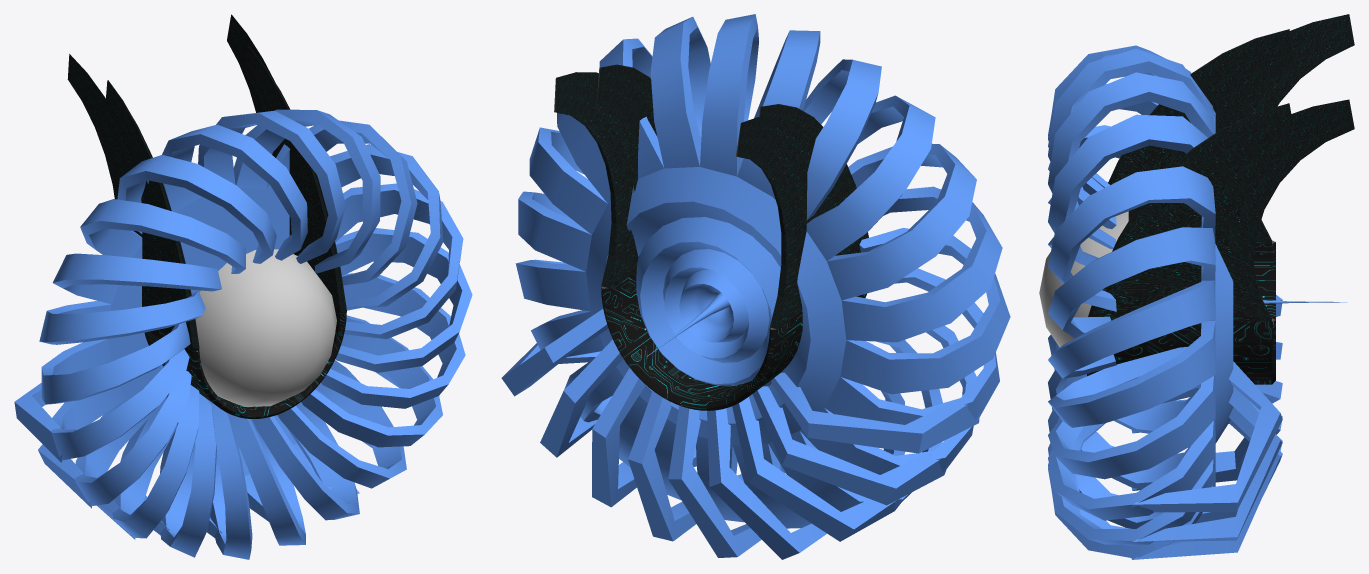
The model's file is space time ship.fbx.
3 views of the same model, side by side, from view 1: azimuth 30°, elevation 25°; view 2: azimuth 150°, elevation 25°; view 3: azimuth 270°, elevation 25° (orthographic). The views are drawn at different scales.
Visible parts, largest first — view 1: Estrusione_NURBS_1, Sfera, Tubo; view 2: Estrusione_NURBS_1, Tubo; view 3: Estrusione_NURBS_1, Tubo, Sfera.
Part boxes in pixels (x1=…): Estrusione_NURBS_1: x1=14, y1=109, x2=472, y2=559; Sfera: x1=195, y1=249, x2=336, y2=406; Tubo: x1=67, y1=14, x2=346, y2=418; Estrusione_NURBS_1: x1=501, y1=14, x2=1010, y2=559; Tubo: x1=554, y1=64, x2=868, y2=410; Estrusione_NURBS_1: x1=1048, y1=45, x2=1346, y2=559; Tubo: x1=1087, y1=14, x2=1354, y2=384; Sfera: x1=1039, y1=211, x2=1128, y2=347.
Size of the model in its own units: 722 by 744 by 444.
3 materials, 1 textured.
